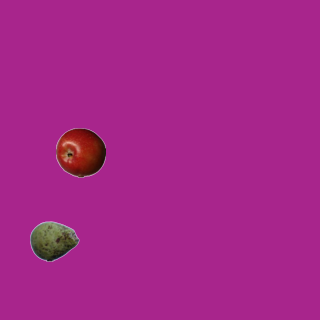Apple Braeburn: (55, 127, 105, 177)
Pear Stone: (29, 216, 79, 266)
